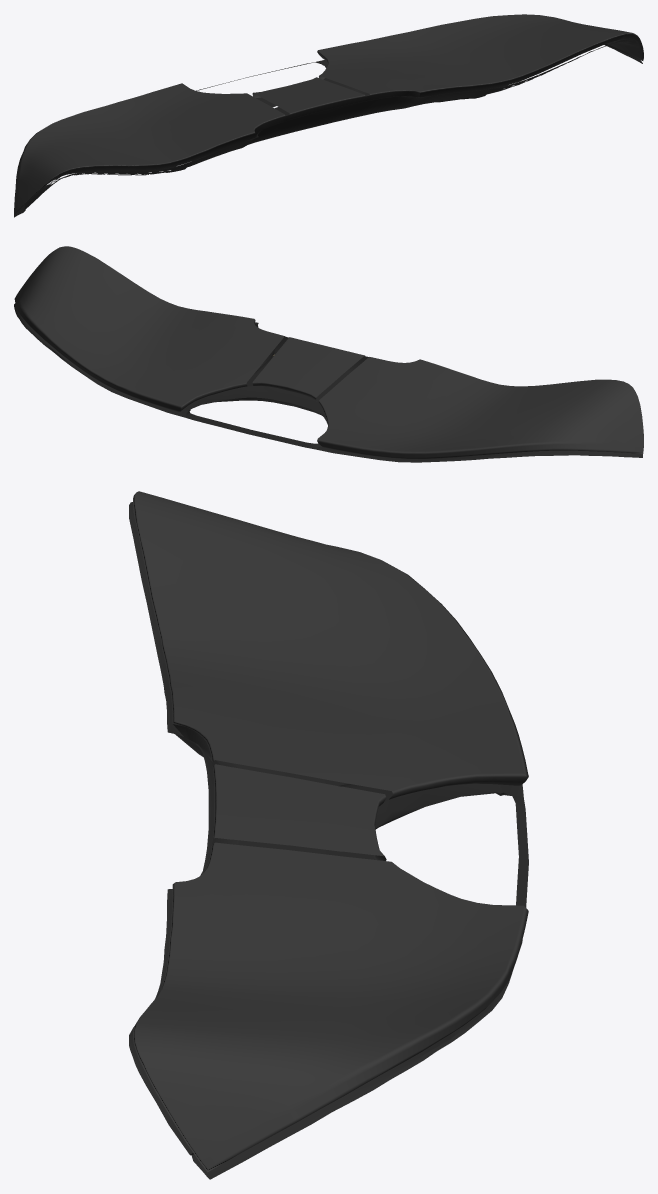
Rendered from spoiler.glb.
3 views of the same model, one above another, from view 1: azimuth 30°, elevation 25°; view 2: azimuth 150°, elevation 25°; view 3: azimuth 270°, elevation 25° (orthographic). The views are drawn at different scales.
Parts seen in each view (by area): view 1: body:Kit0_Paint_Geo_lodABody_lodA_McLaren_Elva_2021Paint_Ma.; view 2: body:Kit0_Paint_Geo_lodABody_lodA_McLaren_Elva_2021Paint_Ma.; view 3: body:Kit0_Paint_Geo_lodABody_lodA_McLaren_Elva_2021Paint_Ma..
Part boxes in pixels (bbox=[...]): body:Kit0_Paint_Geo_lodABody_lodA_McLaren_Elva_2021Paint_Ma.: bbox=[14, 14, 643, 217]; body:Kit0_Paint_Geo_lodABody_lodA_McLaren_Elva_2021Paint_Ma.: bbox=[14, 246, 643, 462]; body:Kit0_Paint_Geo_lodABody_lodA_McLaren_Elva_2021Paint_Ma.: bbox=[129, 491, 528, 1179].
Bounding box in the file's own units: 0.017 × 0.00142 × 0.00468.
Materials: 2 (1 with a texture image).
